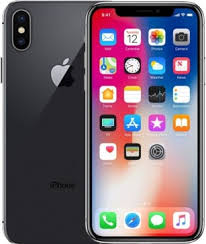iphone: (2, 1, 205, 244), (83, 1, 206, 244)
iphone10: (3, 1, 202, 244), (83, 1, 206, 244)
